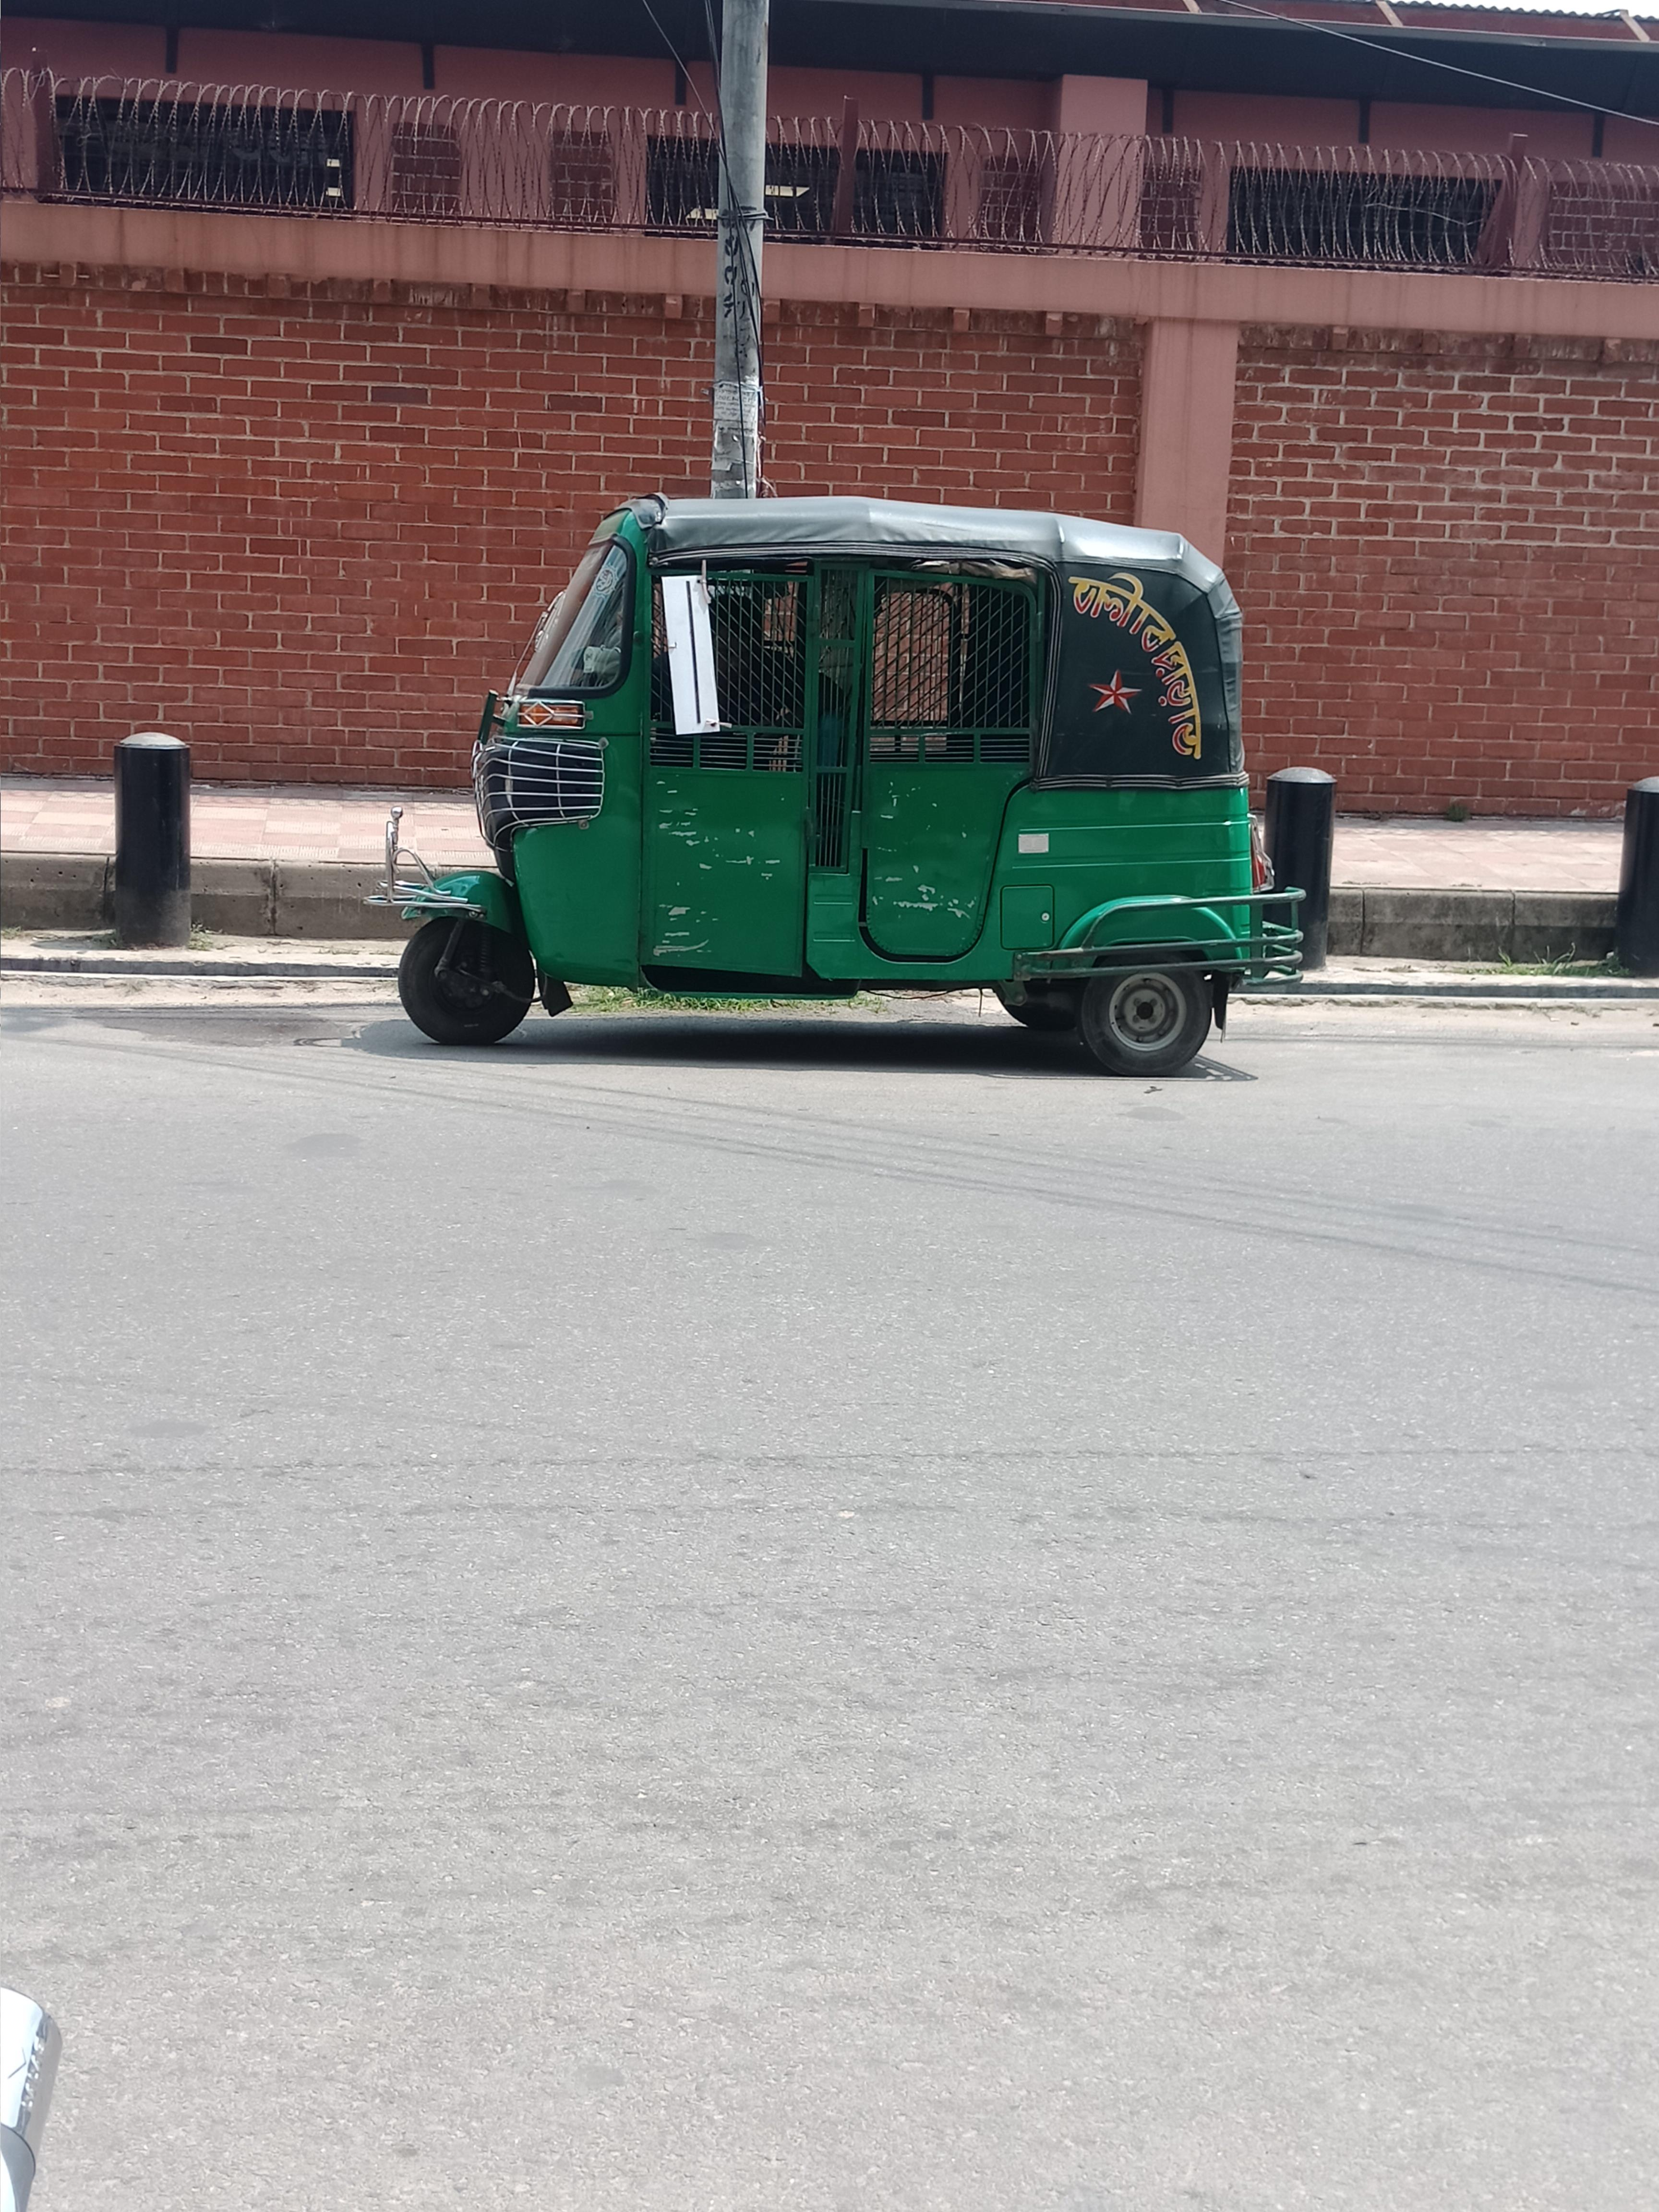cng: (371, 472, 1328, 1089)
